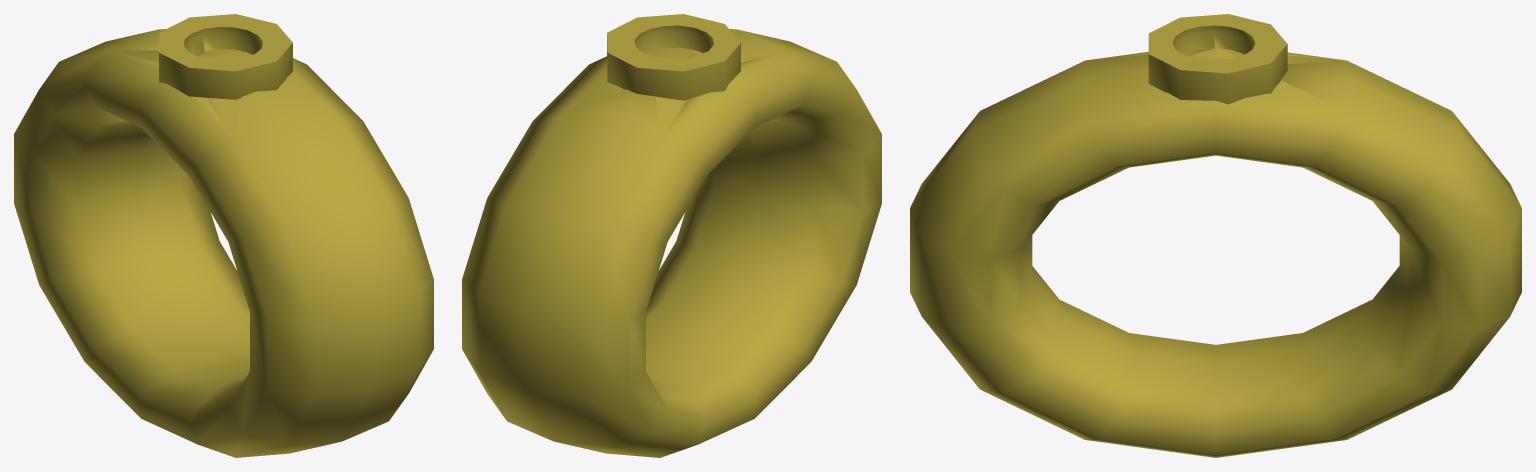
Rendered from bracelet.fbx.
3 renders of one model, left to right at view 1: azimuth 30°, elevation 25°; view 2: azimuth 150°, elevation 25°; view 3: azimuth 270°, elevation 25°, orthographic. The views are drawn at different scales.
Parts seen in each view (by area): view 1: Bracelet; view 2: Bracelet; view 3: Bracelet.
Boxes of the visible parts, x1,y1,x2,y2 form: Bracelet: [14, 14, 433, 457]; Bracelet: [462, 14, 881, 457]; Bracelet: [910, 14, 1521, 457].
Bounding box in the file's own units: 3.48 × 7.63 × 10.7.
